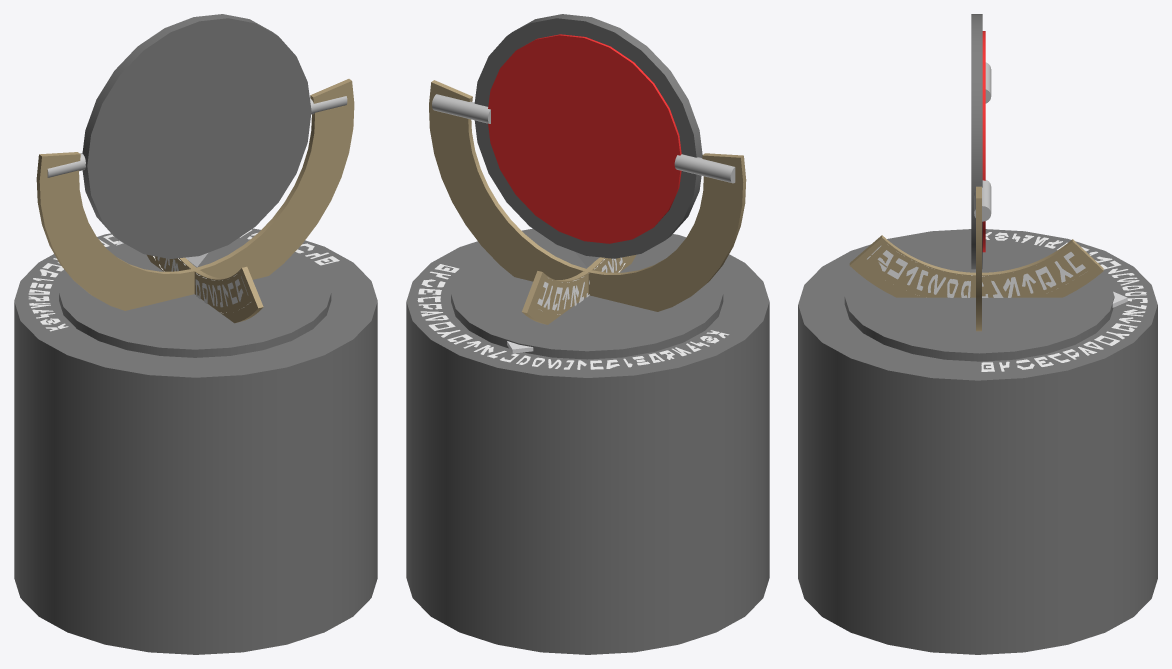
File: miroir2.fbx
3 renders of one model, left to right at view 1: azimuth 30°, elevation 25°; view 2: azimuth 150°, elevation 25°; view 3: azimuth 270°, elevation 25°, orthographic.
Parts seen in each view (by area): view 1: SocleExt, Dos, SocleInt, Boîte001; view 2: SocleExt, Dos, SocleInt, Boîte001; view 3: SocleExt, SocleInt, Dos, Boîte001.
Boxes of the visible parts, x1,y1,x2,y2 form: SocleExt: (14, 228, 377, 654); Dos: (47, 14, 347, 266); SocleInt: (36, 79, 354, 357); Boîte001: (28, 229, 339, 331); SocleExt: (406, 228, 769, 654); Dos: (432, 14, 735, 266); SocleInt: (429, 80, 746, 359); Boîte001: (417, 264, 729, 369); SocleExt: (798, 229, 1157, 654); SocleInt: (844, 186, 1127, 361); Dos: (971, 14, 991, 270); Boîte001: (981, 232, 1147, 371).
Size of the model in its own units: 8 by 13.58 by 8.
